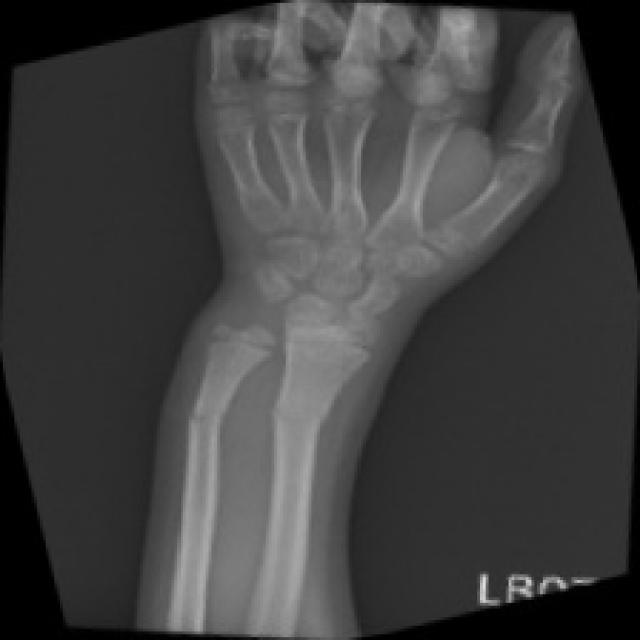fracture: (266, 388, 354, 474), (175, 378, 240, 472)
